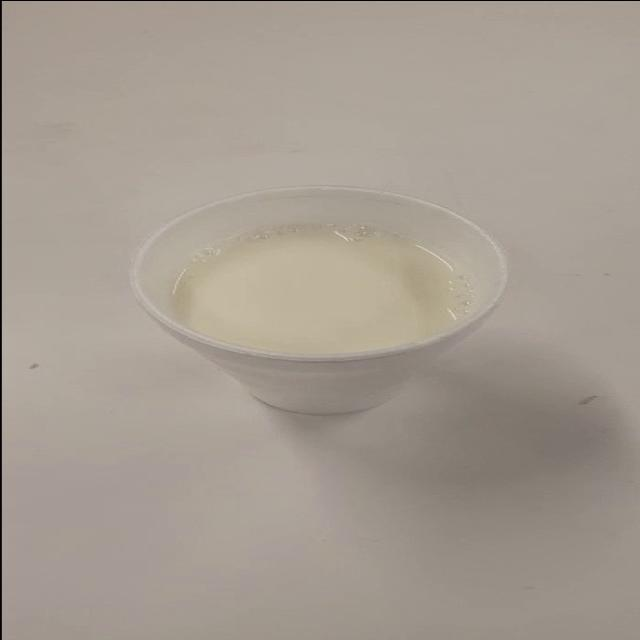Milk: (138, 154, 535, 428)
